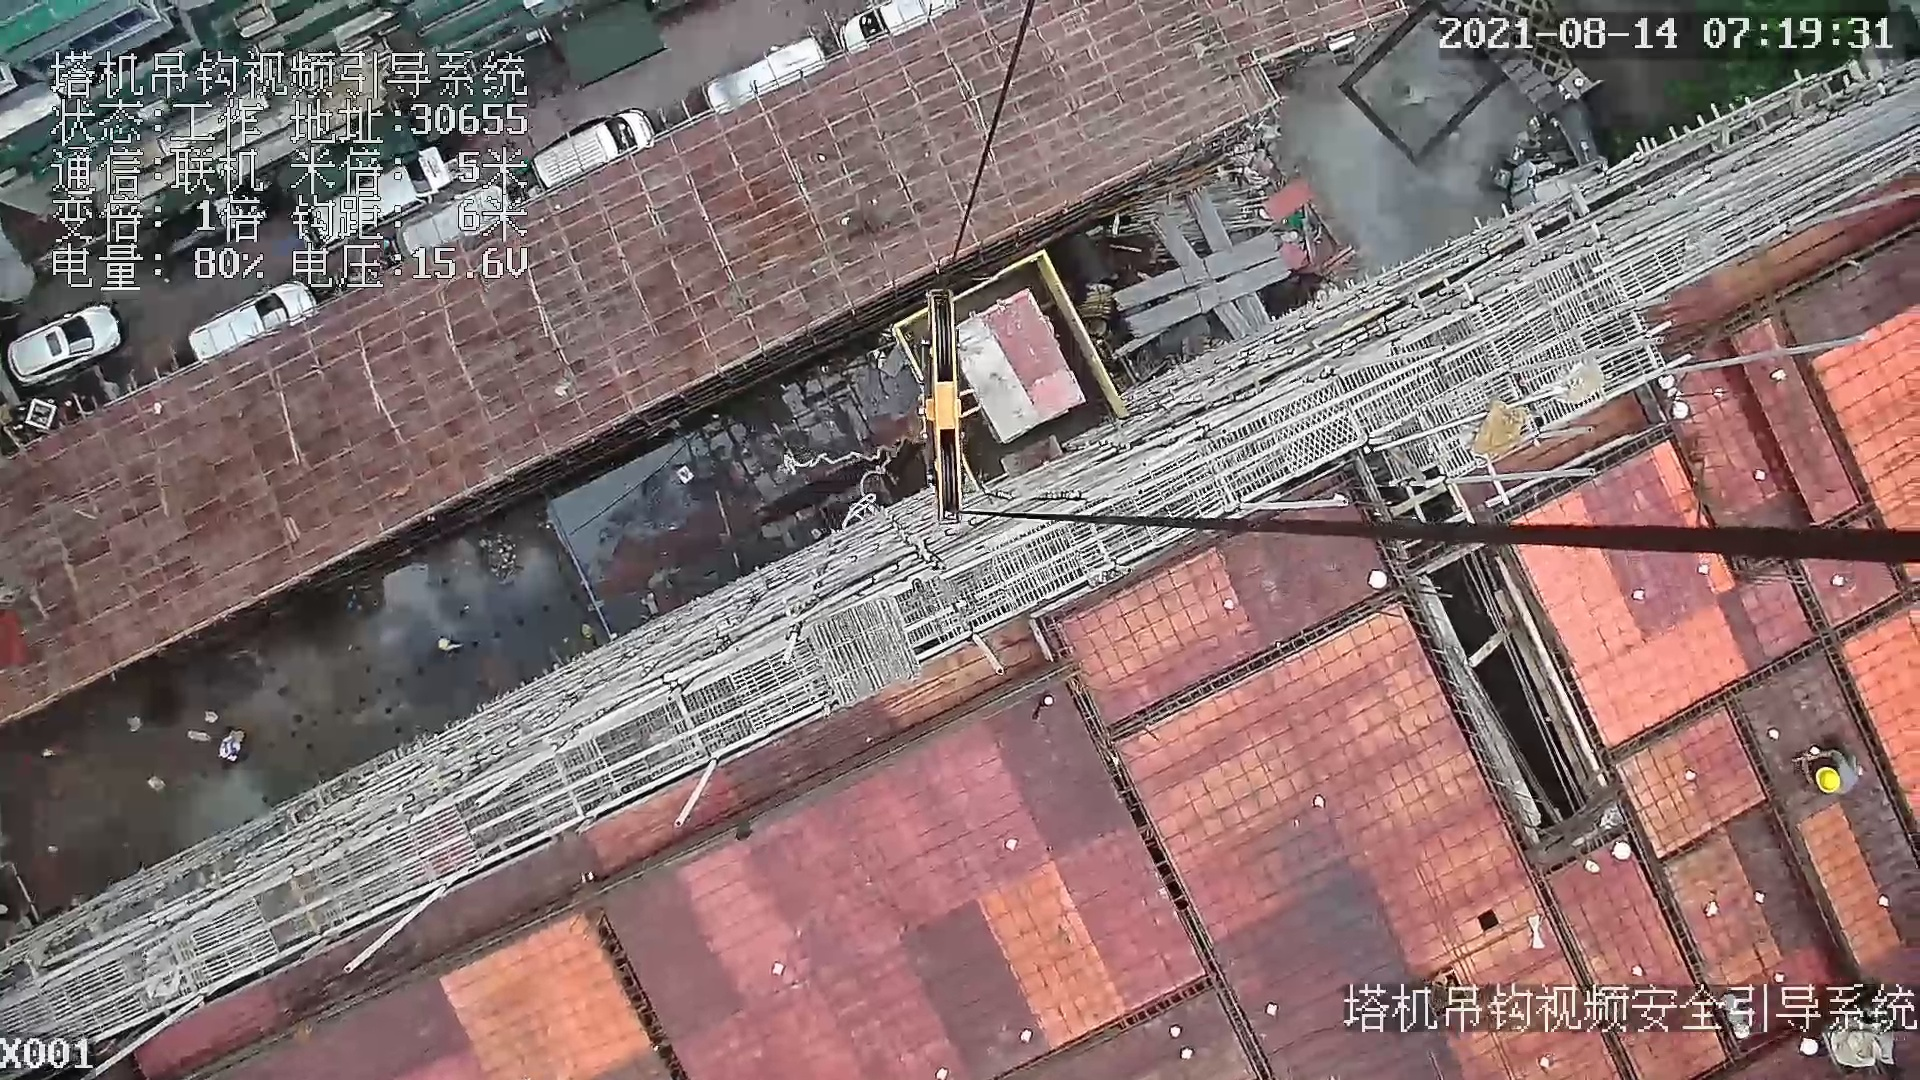helmet: (1814, 767, 1840, 793)
hook: (914, 282, 996, 539)
person: (1803, 736, 1859, 799)
